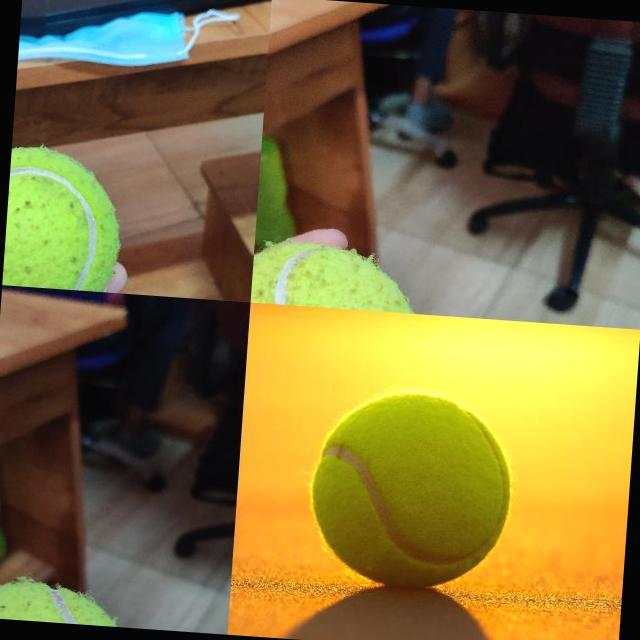Tennis Ball: (303, 386, 516, 593), (2, 144, 125, 292)
